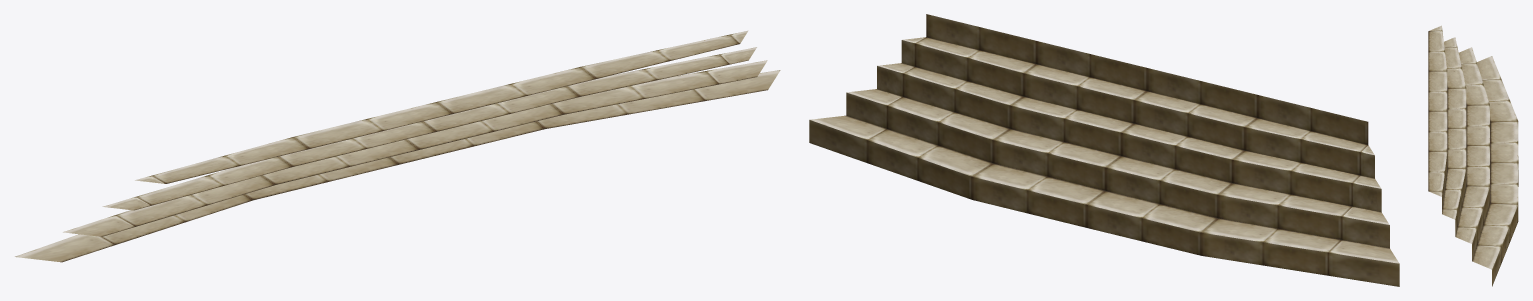
Rendered from a_SWAdoor01a.glb.
3 renders of one model, left to right at view 1: azimuth 30°, elevation 25°; view 2: azimuth 150°, elevation 25°; view 3: azimuth 270°, elevation 25°, orthographic. The views are drawn at different scales.
Parts seen in each view (by area): view 1: a_SWAdoor01a; view 2: a_SWAdoor01a; view 3: a_SWAdoor01a.
Boxes of the visible parts, box(x1,y1,x2,y2) form: a_SWAdoor01a: box(15, 30, 780, 262); a_SWAdoor01a: box(809, 14, 1399, 286); a_SWAdoor01a: box(1428, 25, 1518, 286).
Size of the model in its own units: 10.69 by 2 by 1.9.
1 material, 1 textured.
